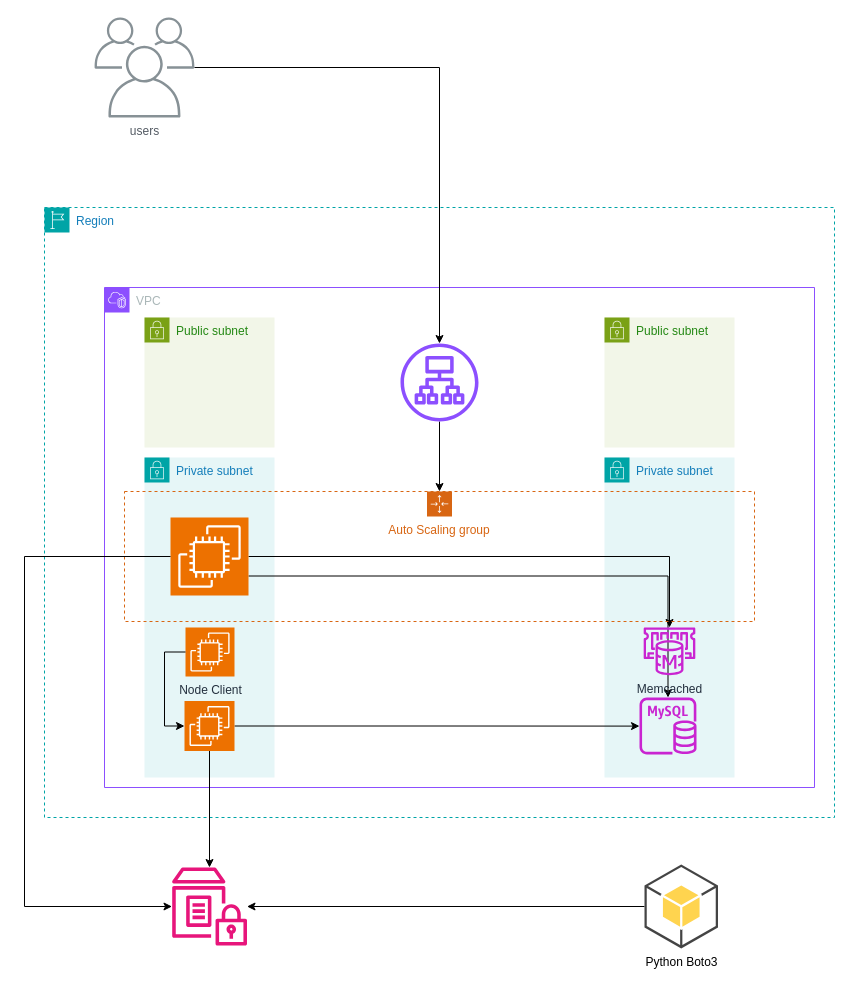
This 852x986 diagram has some shape labels left out. Here are the shapes that lost their labels. From the top down, the centre of each, then its label:
At pixel 439 382: "ALB".
At pixel 209 556: "Web App".
At pixel 209 725: "Node Server".
At pixel 667 725: "RDS MySQL".
At pixel 209 906: "SSM Parameter Store".
